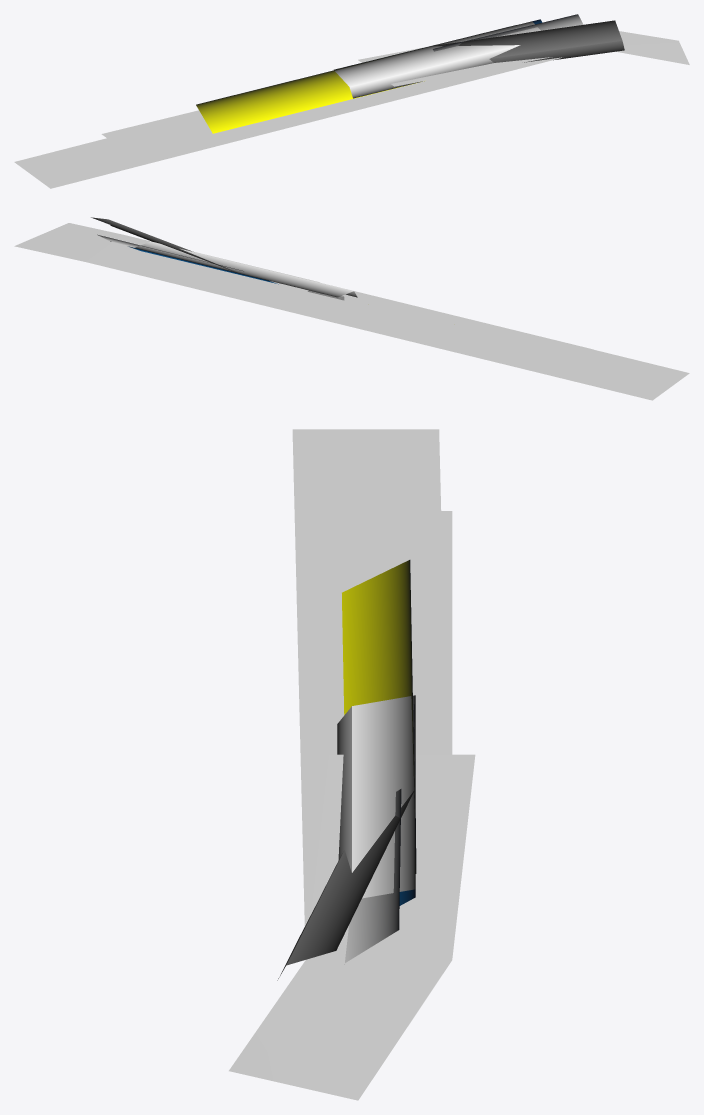
The model's file is Awnings.obj.
3 renders of one model, top to bottom at view 1: azimuth 30°, elevation 25°; view 2: azimuth 150°, elevation 25°; view 3: azimuth 270°, elevation 25°, orthographic. The views are drawn at different scales.
Visible parts, largest first — view 1: Awning_07, Awning_02, Awning_09, Awning_06, Awning_05, Awning_08, Awning_03; view 2: Awning_07, Awning_08, Awning_09, Awning_06, Awning_05, Awning_01; view 3: Awning_08, Awning_07, Awning_09, Awning_06, Awning_02, Awning_05, Awning_03.
Part boxes in pixels (<box>): Awning_07: <box>101,57,561,160</box>; Awning_02: <box>196,25,514,133</box>; Awning_09: <box>14,57,561,188</box>; Awning_06: <box>334,21,540,98</box>; Awning_05: <box>431,20,624,62</box>; Awning_08: <box>358,31,689,86</box>; Awning_03: <box>433,14,583,51</box>; Awning_07: <box>135,274,593,376</box>; Awning_08: <box>14,223,319,309</box>; Awning_09: <box>305,315,689,400</box>; Awning_06: <box>135,241,357,297</box>; Awning_05: <box>91,217,234,271</box>; Awning_01: <box>128,246,278,284</box>; Awning_08: <box>229,754,475,1100</box>; Awning_07: <box>305,511,452,924</box>; Awning_09: <box>292,429,441,926</box>; Awning_06: <box>337,695,415,898</box>; Awning_02: <box>342,560,416,873</box>; Awning_05: <box>277,790,414,980</box>; Awning_03: <box>344,789,401,964</box>.
Size of the model in its own units: 40.6 by 2.48 by 6.73.
